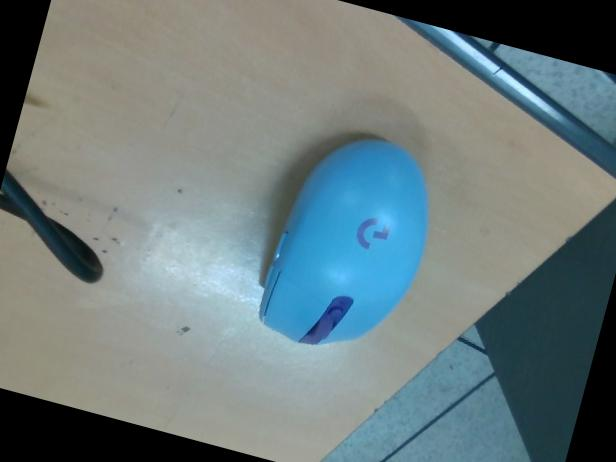mouse: (257, 133, 430, 345)
